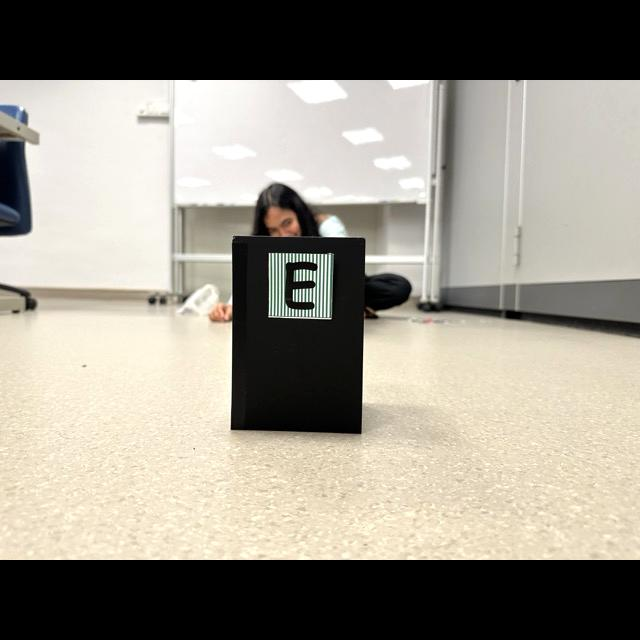E: (285, 262, 318, 310)
